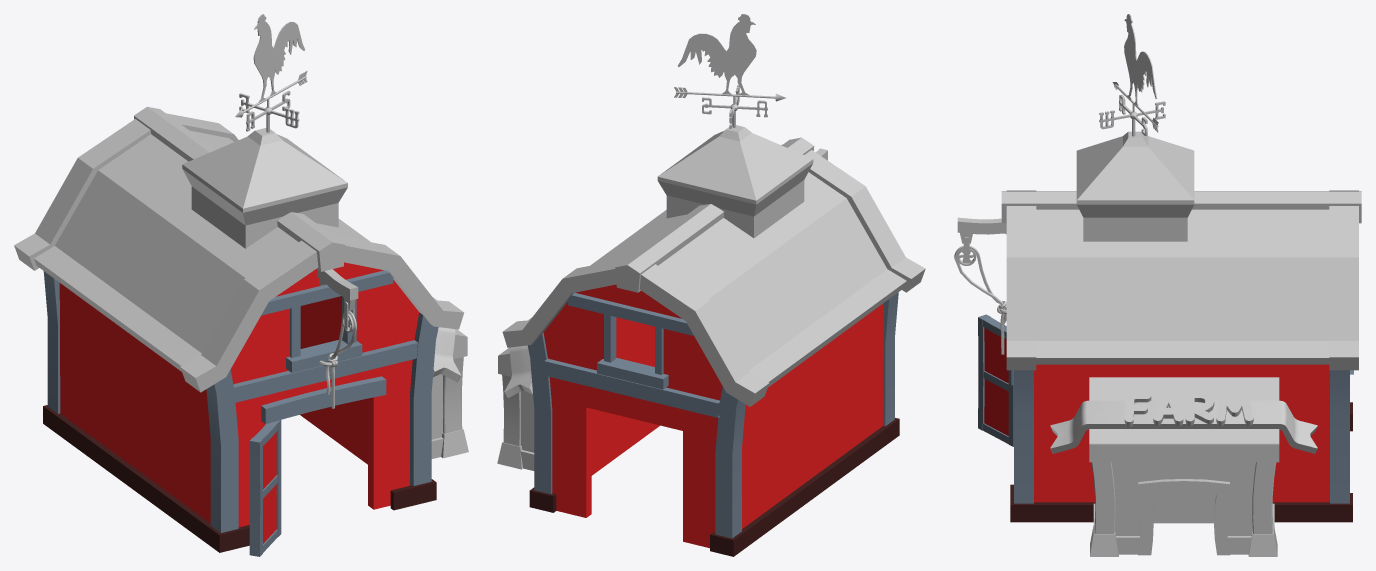
File: Bran_l.fbx
3 renders of one model, left to right at view 1: azimuth 30°, elevation 25°; view 2: azimuth 150°, elevation 25°; view 3: azimuth 270°, elevation 25°, orthographic. The views are drawn at different scales.
Parts seen in each view (by area): view 1: Farm_h, Roof_l, Cube.010, SFarm_l, Door_l, Rope_l; view 2: Farm_h, Roof_l, Cube.010, SFarm_l; view 3: Roof_l, SFarm_l, Farm_h, Cube.010, Door_l, Rope_l.
Boxes of the visible parts, box(x1,y1,x2,y2) form: Farm_h: box(43, 262, 438, 552); Roof_l: box(14, 106, 464, 392); Cube.010: box(182, 14, 347, 248); SFarm_l: box(431, 327, 468, 458); Door_l: box(249, 420, 281, 556); Rope_l: box(317, 269, 358, 408); Farm_h: box(527, 284, 899, 556); Roof_l: box(502, 137, 925, 406); Cube.010: box(657, 14, 813, 237); SFarm_l: box(497, 345, 534, 470); Roof_l: box(1001, 190, 1361, 370); SFarm_l: box(1050, 377, 1317, 556); Farm_h: box(1010, 364, 1353, 522); Cube.010: box(1076, 14, 1194, 241); Door_l: box(978, 314, 1013, 446); Rope_l: box(954, 217, 1006, 354).
Size of the model in its own units: 422 by 484 by 596.
